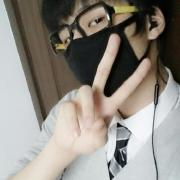OK: (54, 5, 149, 100)
